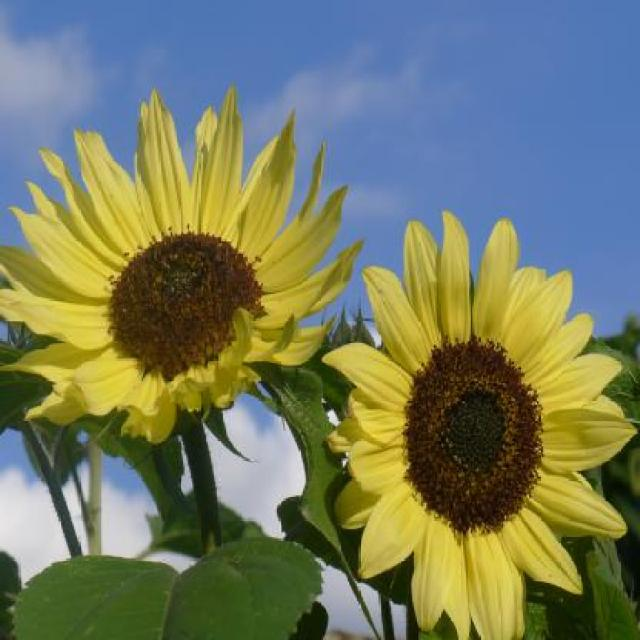sunflower: (321, 181, 640, 640), (4, 80, 358, 478)
